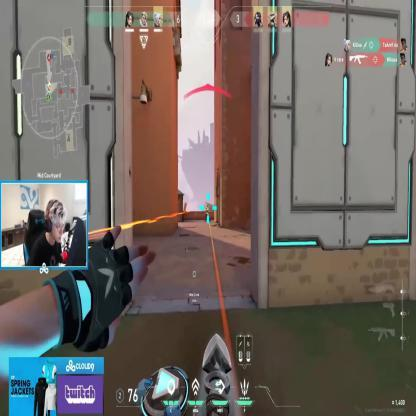enemy: (204, 204, 210, 221)
enemy_head: (205, 204, 208, 209)
